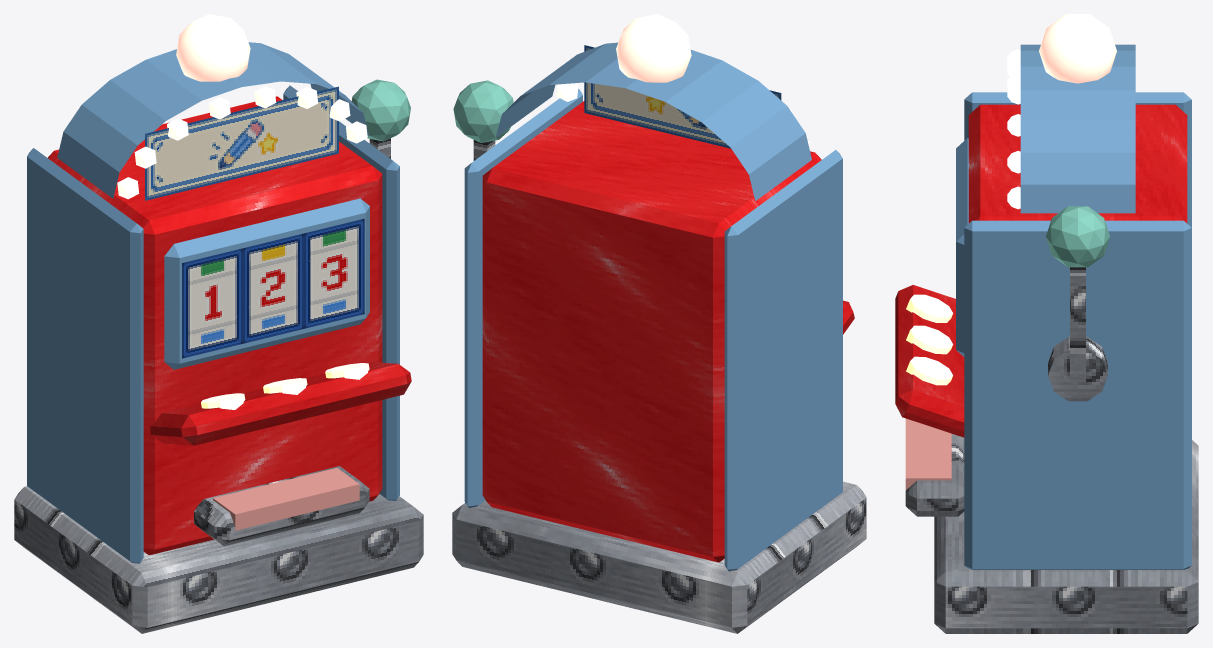
Rendered from slots.glb.
The picture shows the model from 3 angles, left to right: view 1: azimuth 30°, elevation 25°; view 2: azimuth 150°, elevation 25°; view 3: azimuth 270°, elevation 25°; orthographic projection. The views are drawn at different scales.
Visible parts, largest first — view 1: Cabinet, TrimL, Plinth, Reels, Marquee, Sign, Console, Frame, TrimR, TrayHole, Lamp, Tray (+4 smaller); view 2: Cabinet, TrimL, Plinth, Marquee, TrimR, Lamp, Sign, LeverKnob; view 3: TrimR, Plinth, Marquee, Cabinet, Console, Lamp, LeverKnob, Tray, TrayHole, LeverBoss, Frame, TrimL (+4 smaller).
Boxes of the visible parts, x1,y1,x2,y2 form: Cabinet: (48, 96, 382, 554); TrimL: (27, 148, 143, 563); Plinth: (14, 486, 423, 633); Reels: (182, 218, 364, 358); Marquee: (57, 42, 369, 198); Sign: (145, 86, 338, 200); Console: (150, 362, 411, 445); Frame: (164, 198, 369, 369); TrimR: (283, 85, 399, 500); TrayHole: (213, 468, 359, 530); Lamp: (176, 14, 250, 81); Tray: (194, 466, 369, 546); Cabinet: (482, 101, 821, 562); TrimL: (724, 150, 842, 571); Plinth: (452, 481, 866, 633); Marquee: (495, 42, 811, 200); TrimR: (464, 89, 582, 508); Lamp: (616, 14, 691, 82); Sign: (584, 45, 781, 148); LeverKnob: (453, 80, 513, 142); TrimR: (964, 220, 1191, 569); Plinth: (934, 440, 1198, 633); Marquee: (1020, 44, 1135, 213); Cabinet: (968, 104, 1187, 223); Console: (895, 285, 964, 437); Lamp: (1039, 14, 1116, 83); LeverKnob: (1046, 206, 1109, 267); Tray: (905, 434, 964, 516); TrayHole: (905, 418, 951, 490); LeverBoss: (1048, 336, 1107, 401); Frame: (956, 138, 968, 356); TrimL: (964, 92, 1191, 227).
Size of the model in its own units: 1.74 by 2.64 by 1.32.
11 materials, 5 textured.
